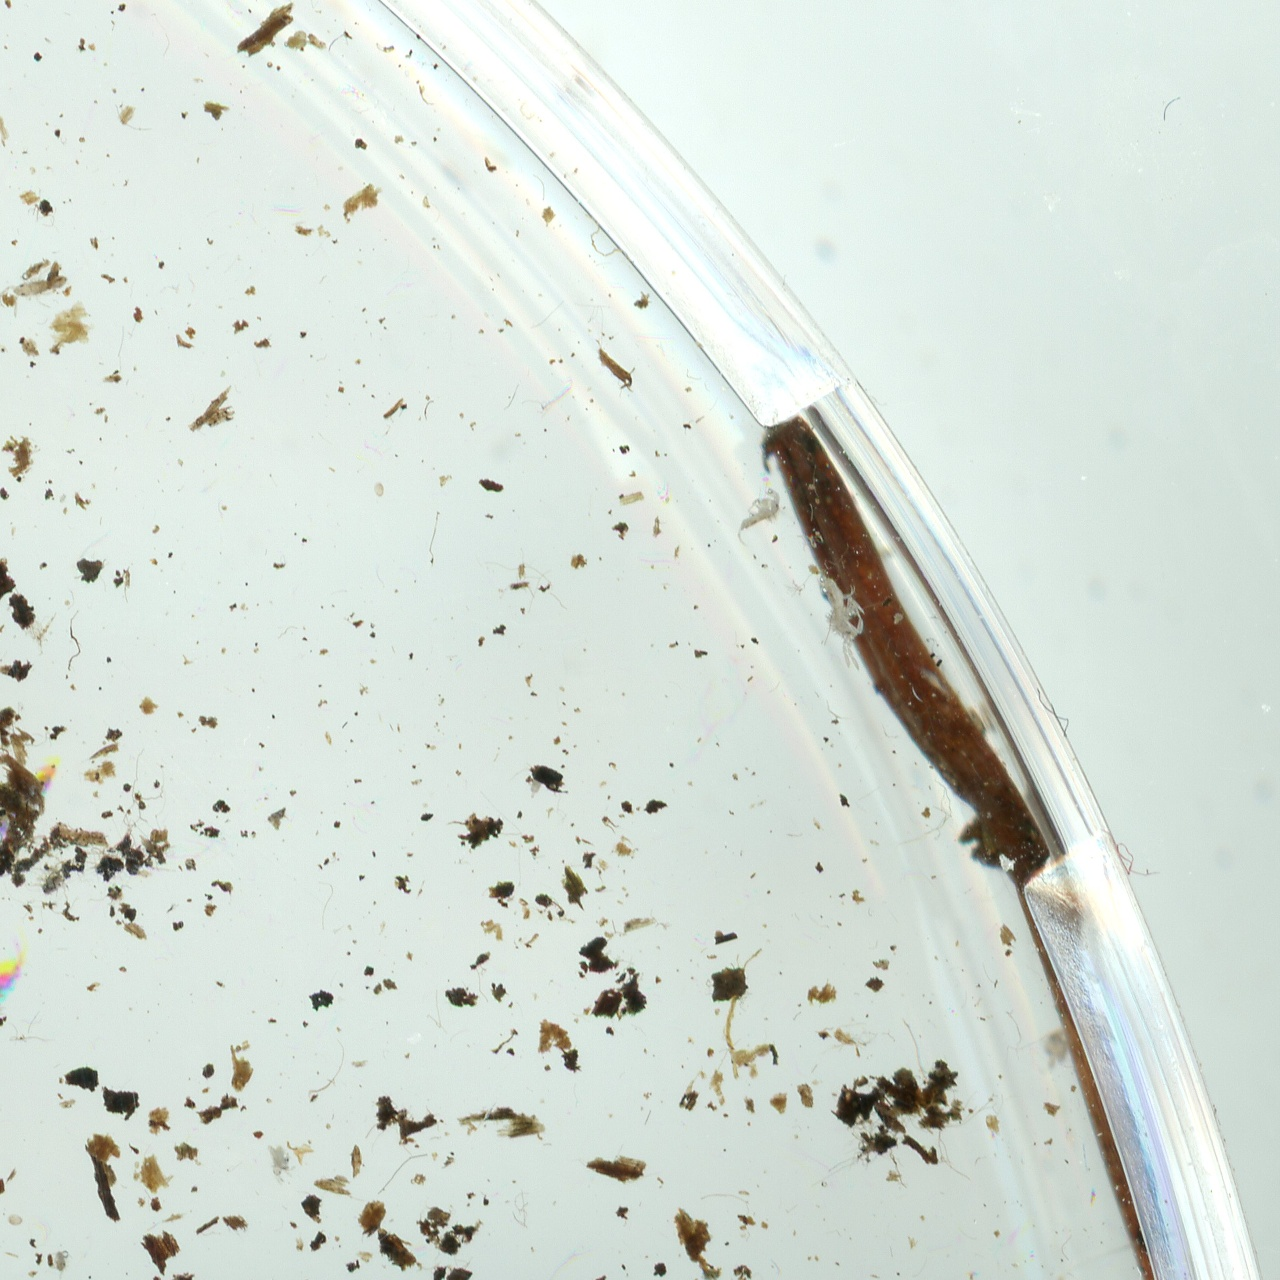arthropod: (803, 557, 890, 681), (735, 486, 784, 550), (7, 268, 70, 306), (261, 1140, 301, 1183), (0, 977, 15, 1078), (270, 1142, 289, 1185), (50, 1249, 72, 1280)
